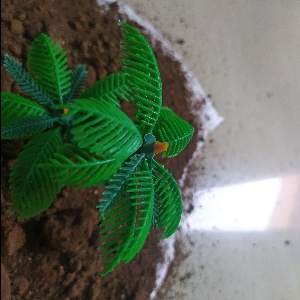plant: (85, 33, 195, 248), (4, 35, 102, 218)
